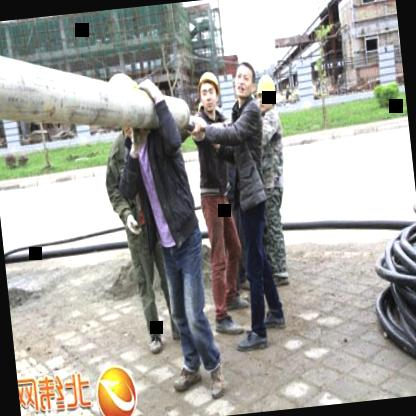head: (228, 57, 258, 102)
helmet: (85, 352, 144, 416), (194, 66, 224, 116), (254, 72, 278, 113)
